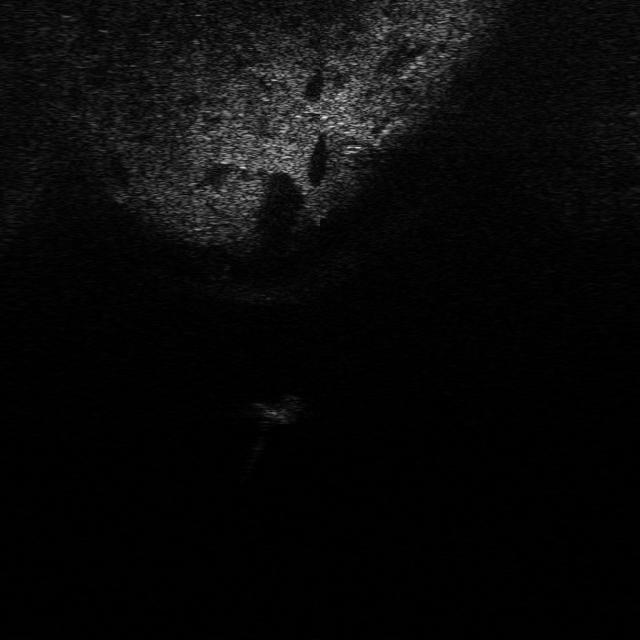ball: (302, 188, 333, 223)
cube: (243, 391, 306, 426)
